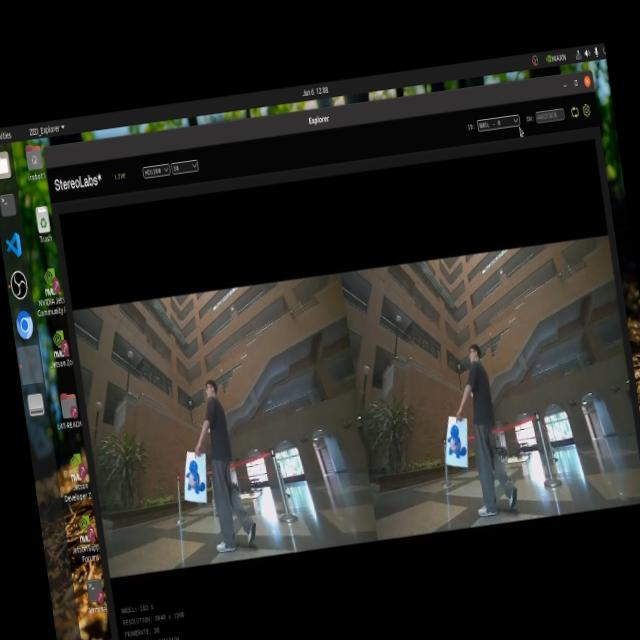blue: (180, 457, 217, 503), (448, 420, 469, 464)
